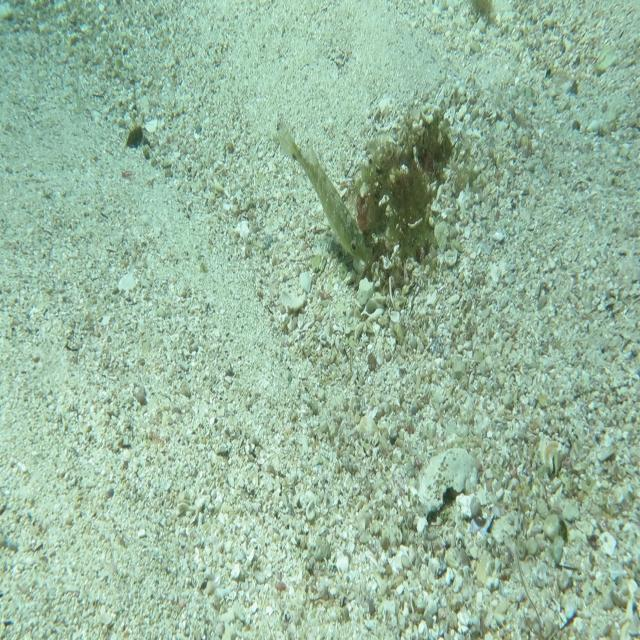NIP_IN: (273, 121, 371, 269)
core_nest: (414, 124, 450, 159)
nest: (350, 101, 466, 287)
vegetation: (468, 0, 494, 27), (124, 124, 146, 151)
